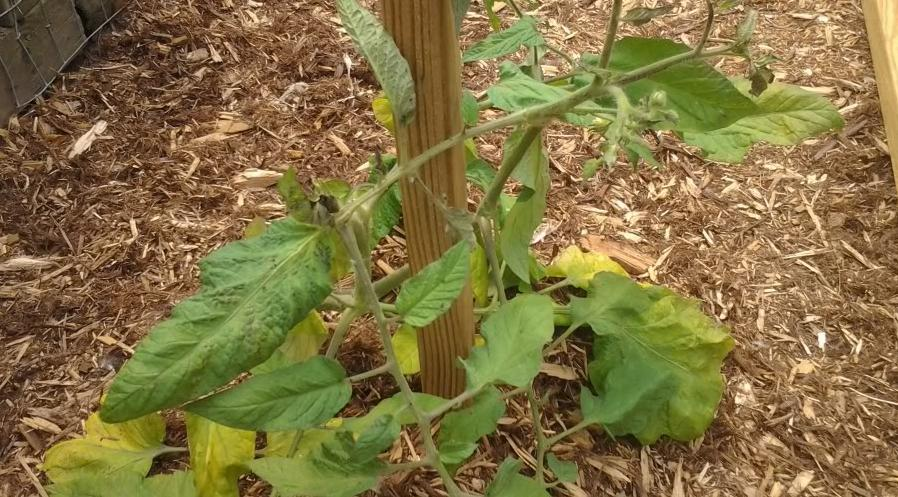Tomato leaf: (88, 215, 336, 420), (688, 80, 853, 162), (453, 272, 551, 407)
